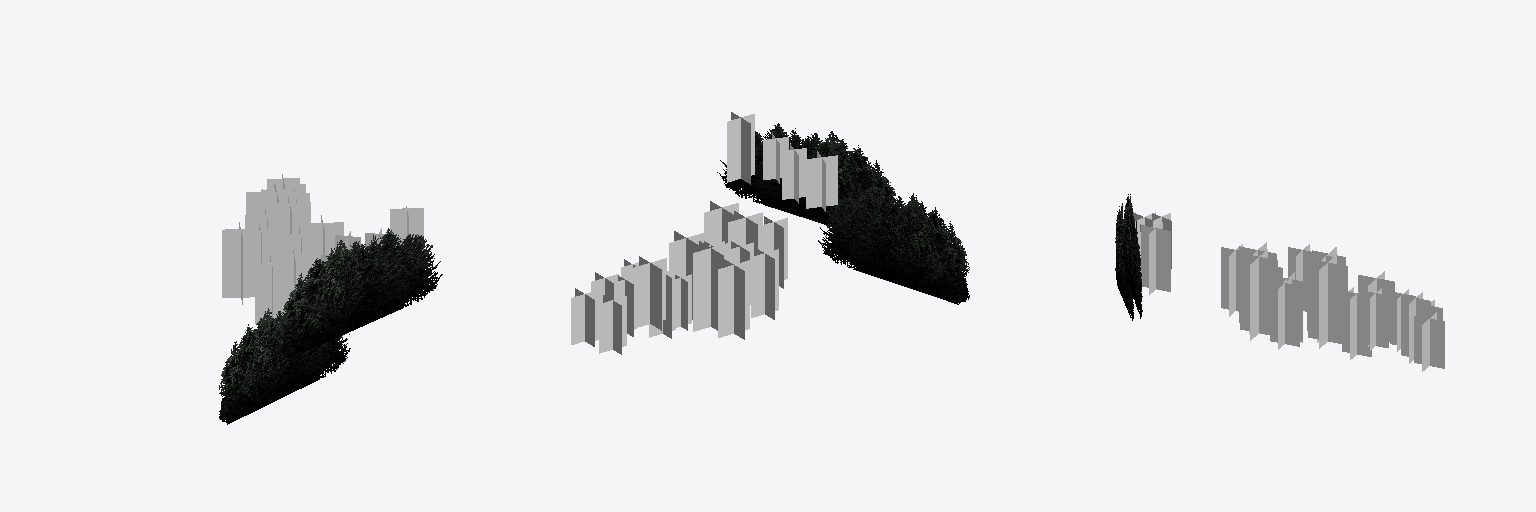
3 views of the same model, side by side, from view 1: azimuth 30°, elevation 25°; view 2: azimuth 150°, elevation 25°; view 3: azimuth 270°, elevation 25° (orthographic).
Visible parts, largest first — view 1: mesh4, mesh0, mesh3, mesh2, mesh1; view 2: mesh4, mesh0, mesh1, mesh2, mesh3; view 3: mesh2, mesh3, mesh0, mesh1, mesh4.
Part boxes in pixels (x1,y1,x2,y2): mesh4: (219,228,442,424); mesh0: (222,184,384,323); mesh3: (244,174,310,315); mesh2: (246,189,423,255); mesh1: (245,209,360,267); mesh4: (717,123,969,304); mesh0: (571,133,788,346); mesh1: (649,144,837,338); mesh2: (599,112,754,354); mesh3: (591,216,787,340); mesh2: (1141,222,1442,350); mesh3: (1221,244,1430,363); mesh0: (1140,224,1444,371); mesh1: (1133,212,1371,359); mesh4: (1115,194,1142,320).
Size of the model in its own units: 211 by 140 by 248.
5 materials, 1 textured.